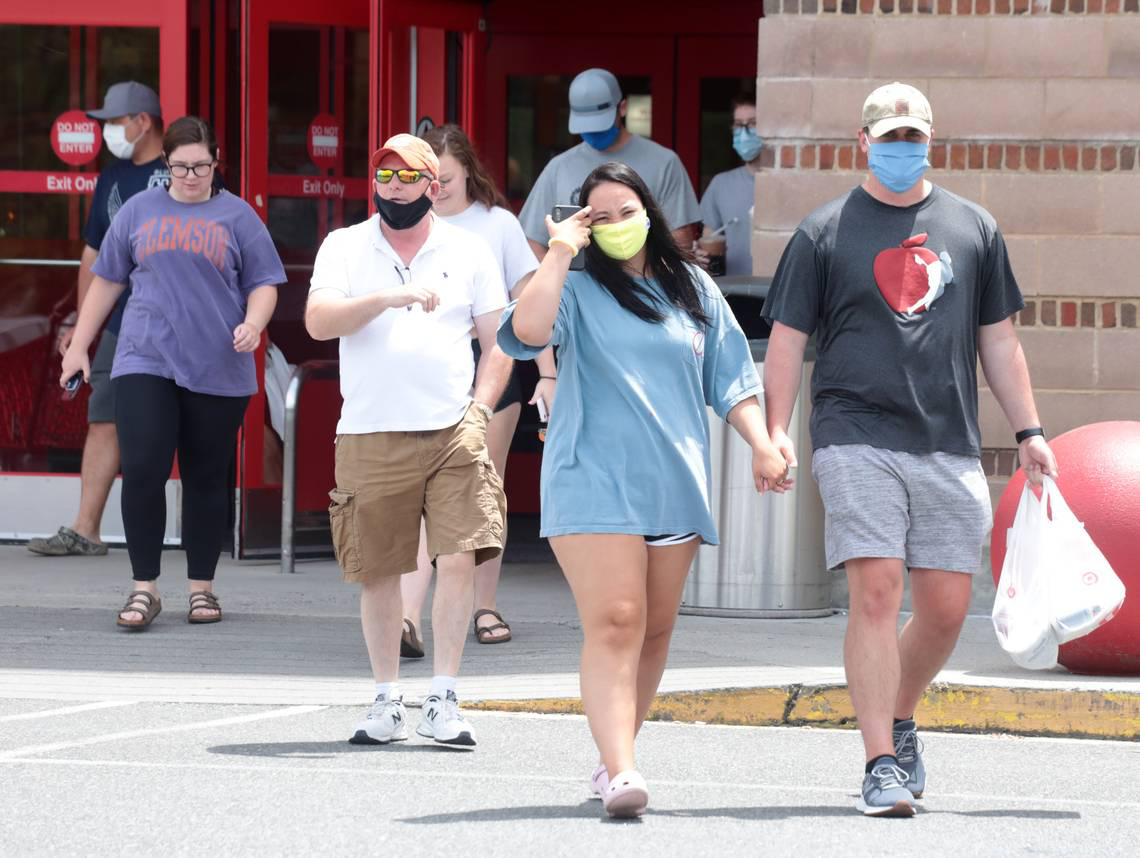mask_weared_incorrect: (367, 161, 441, 229)
with_mask: (859, 115, 936, 197), (586, 185, 654, 261)
without_mask: (165, 137, 218, 202)
